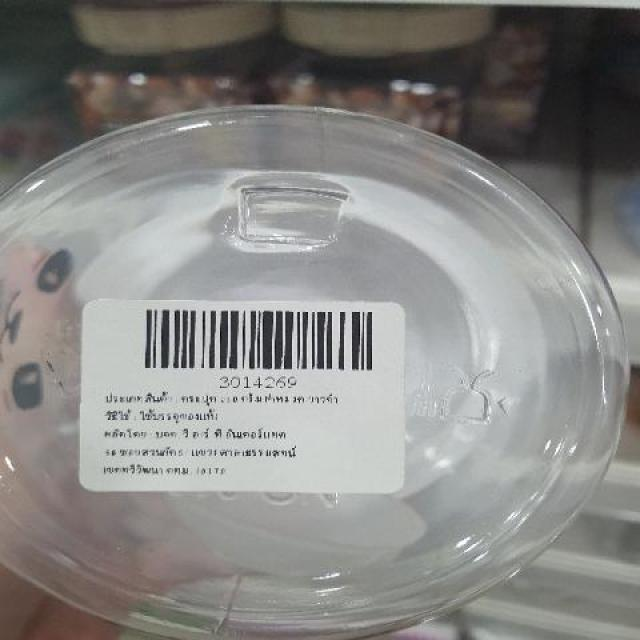Barcode: (132, 301, 391, 390)
